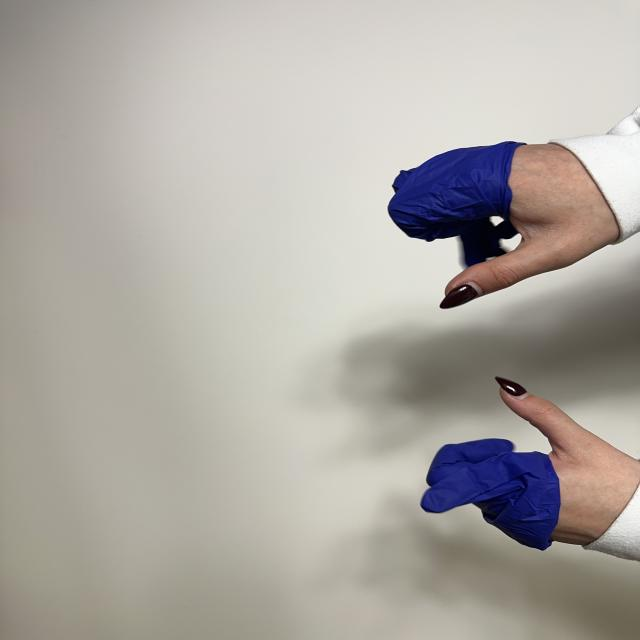glove_partial: (389, 142, 619, 308), (421, 377, 640, 550)
